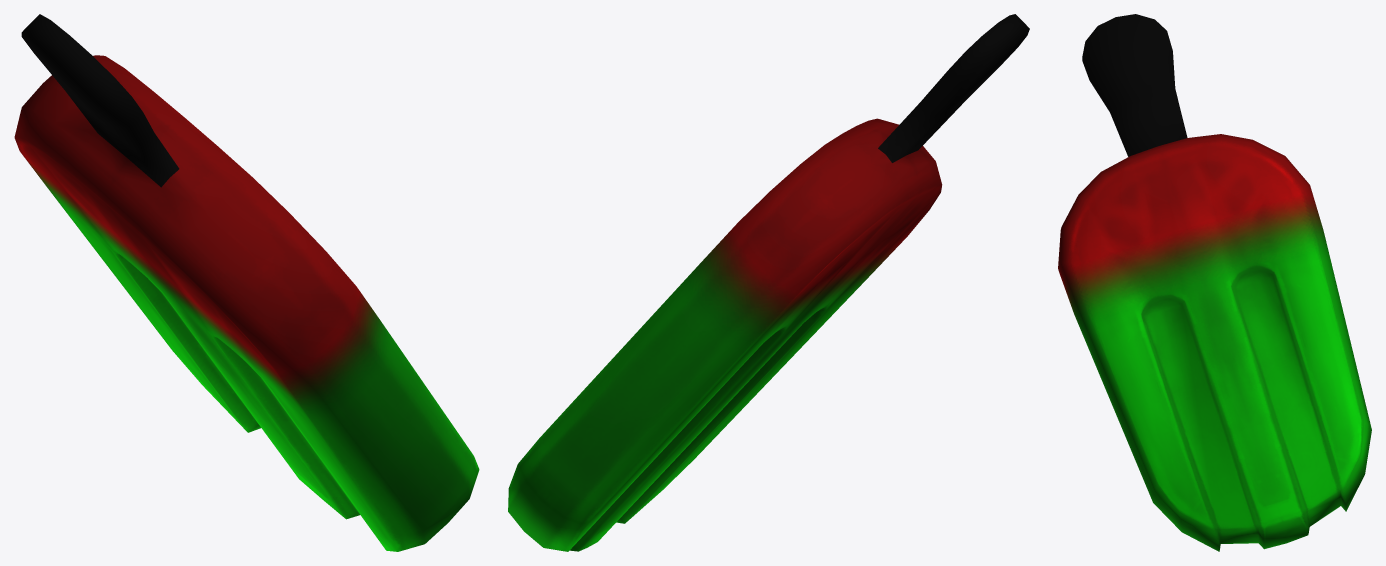
3 views of the same model, side by side, from view 1: azimuth 30°, elevation 25°; view 2: azimuth 150°, elevation 25°; view 3: azimuth 270°, elevation 25° (orthographic). The views are drawn at different scales.
Visible parts, largest first — view 1: L1241; view 2: L1241; view 3: L1241.
Part boxes in pixels (x1,y1,x2,y2): L1241: (14, 14, 479, 551); L1241: (508, 14, 1029, 551); L1241: (1058, 14, 1371, 551).
Bounding box in the file's own units: 0.0978 × 0.1278 × 0.0885.
